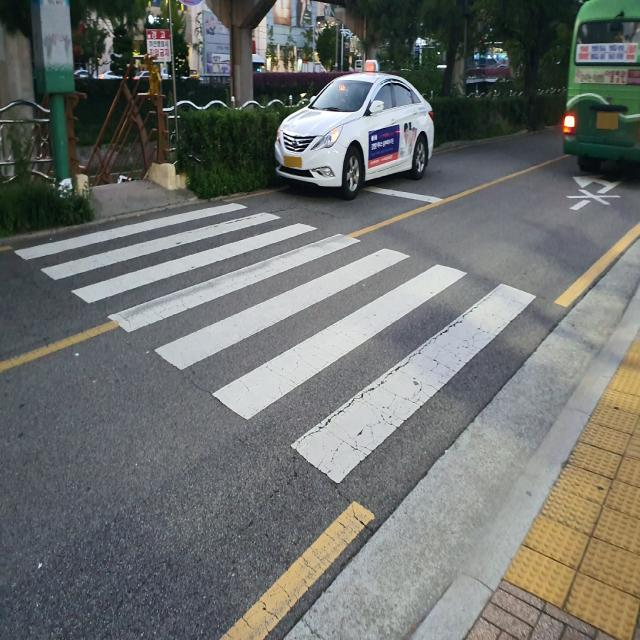횡단보도: (10, 194, 540, 491)
